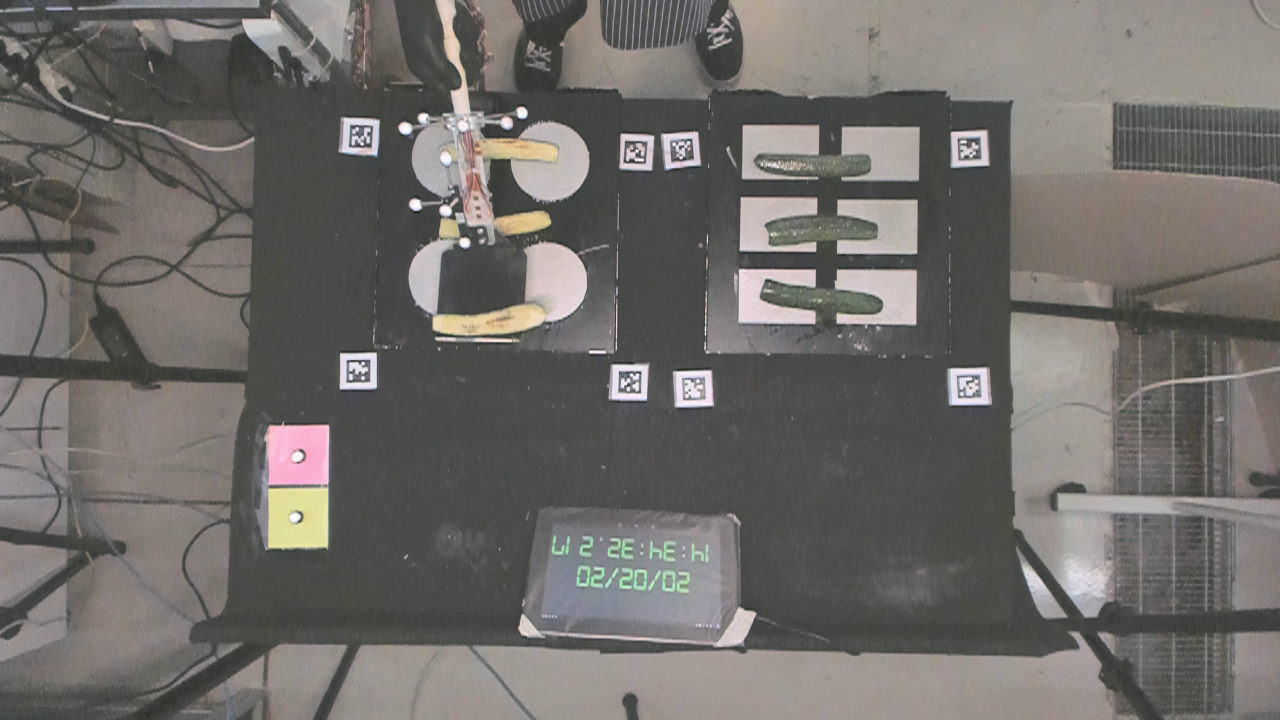marker: (268, 424, 330, 485)
zucchini: (759, 276, 883, 315), (439, 132, 560, 167), (763, 213, 881, 248), (752, 148, 878, 180), (429, 306, 555, 336), (434, 211, 563, 239)
